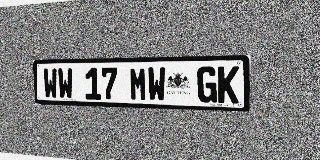1: (84, 68, 101, 100)
7: (101, 67, 118, 100)
G: (197, 66, 217, 103)
K: (218, 66, 239, 103)
M: (129, 67, 147, 101)
W: (147, 67, 166, 102), (57, 68, 73, 99), (43, 68, 58, 99)
